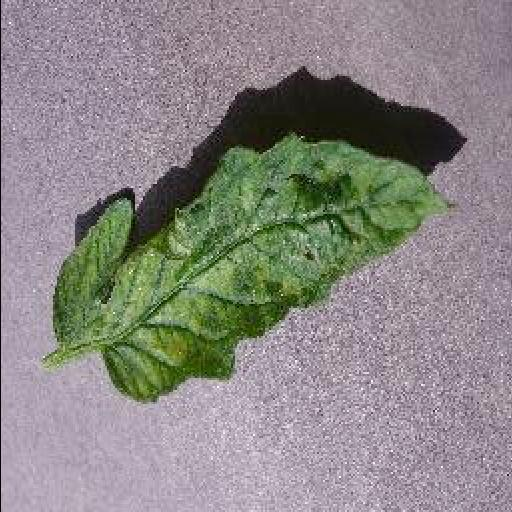Mosaic Virus: (52, 134, 454, 404)
